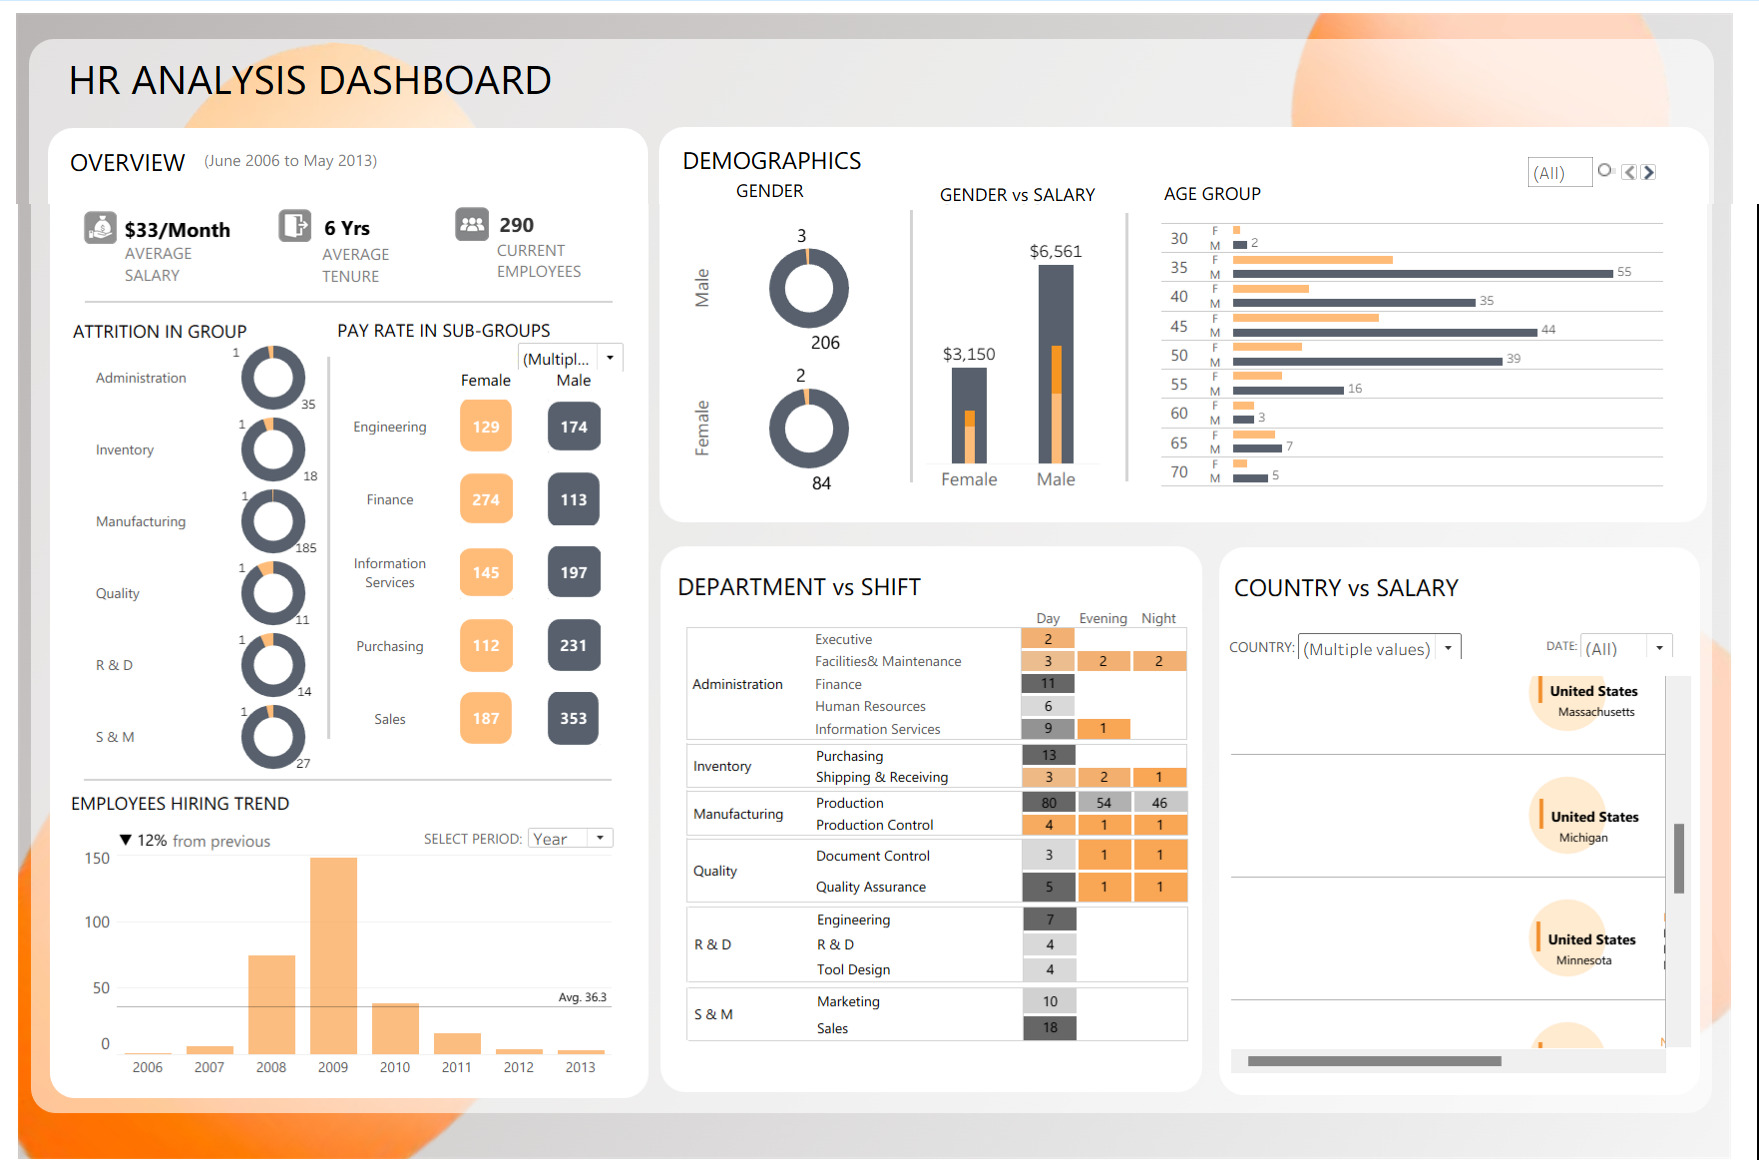

Layout of this report page (visuals, bound fields, positions):
{"tool":"tableau","page":{"name":"HR Analysis","canvas":[1754,1169],"ordinal":0},"visuals":[{"type":"image","param":"C:/Users/vshivani/Desktop/shivani/Tableau/7. HR analysis(ssms)-replica/images/fi","box":[8,8,1738,1153]},{"type":"worksheet","title":"Round BG","mark":"Automatic","box":[25,38,1689,1120]},{"type":"text","box":[60,41,604,71]},{"type":"worksheet","title":"Round box1","mark":"Automatic","box":[44,104,611,1011]},{"type":"worksheet","title":"Round box2","mark":"Automatic","box":[655,126,1068,410]},{"type":"text","box":[642,129,252,58]},{"type":"text","box":[62,134,190,52]},{"type":"text","box":[196,139,235,39]},{"type":"filter","title":"AGE GROUP","param":"[federated.0ox08631faskx71163btk0cyt8z8].[none:ages (bin):ok]","box":[1521,153,135,49]},{"type":"text","box":[712,160,108,58]},{"type":"text","box":[1156,163,117,58]},{"type":"text","box":[932,174,182,38]},{"type":"worksheet","title":"Average salary","mark":"Automatic","box":[111,194,122,62]},{"type":"worksheet","title":"Current Employees","mark":"Automatic","box":[482,196,59,47]},{"type":"worksheet","title":"Average Tenure","mark":"Automatic","box":[308,202,67,42]},{"type":"image","param":"C:/Users/vshivani/Desktop/shivani/Tableau/7. HR analysis(ssms)-replica/images/pe","box":[450,203,35,34]},{"type":"image","param":"C:/Users/vshivani/Desktop/shivani/Tableau/7. HR analysis(ssms)-replica/images/le","box":[273,205,35,33]},{"type":"blank","box":[906,206,3,273]},{"type":"image","param":"C:/Users/vshivani/Desktop/shivani/Tableau/7. HR analysis(ssms)-replica/images/sa","box":[78,207,38,33]},{"type":"blank","box":[1122,209,3,269]},{"type":"worksheet","title":"Gender","mark":"Pie","rows":["Gender","Calculation_1583015271361843207","Calculation_1583015271361843207"],"box":[684,214,218,281]},{"type":"worksheet","title":"AGE GROUP","mark":"Automatic","rows":["ages (bin)","Gender (copy)_495114486962520064"],"cols":["Calculation_849491482378940431"],"box":[1158,219,503,264]},{"type":"worksheet","title":"gender vs salary","mark":"Bar","rows":["Calculation_849491482297741312","Rate"],"cols":["Gender"],"box":[922,228,174,260]},{"type":"text","box":[488,232,98,49]},{"type":"text","box":[115,234,81,52]},{"type":"text","box":[313,236,76,50]},{"type":"blank","box":[79,297,529,2]},{"type":"text","box":[328,309,255,33]},{"type":"text","box":[63,312,284,30]},{"type":"worksheet","title":"attrition in group","mark":"Pie","rows":["GroupName","Calculation_1583015271361843207","Calculation_1583015271361843207"],"box":[84,338,260,432]},{"type":"filter","title":"pay rate in sub-groups","param":"[federated.0ox08631faskx71163btk0cyt8z8].[none:Name (HumanResources.Department):","box":[510,339,112,29]},{"type":"blank","box":[322,353,3,383]},{"type":"worksheet","title":"pay rate in sub-groups","mark":"Square","rows":["Name (HumanResources.Department)"],"cols":["Gender"],"box":[333,366,280,386]},{"type":"worksheet","title":"Round box3","mark":"Automatic","box":[656,543,553,570]},{"type":"worksheet","title":"Round box4","mark":"Automatic","box":[1216,544,491,572]},{"type":"text","box":[1227,554,270,58]},{"type":"text","box":[669,558,345,48]},{"type":"worksheet","title":"dep vs shifts 1","mark":"Square","rows":["GroupName","Name (HumanResources.Department)"],"cols":["ShiftID (HumanResources.EmployeeDepartme)"],"box":[682,604,502,133]},{"type":"blank","box":[682,624,1,414]},{"type":"filter","title":"country vs salary","param":"[federated.0ox08631faskx71163btk0cyt8z8].[none:Calculation_1417226510753955842:n","box":[1220,630,242,26]},{"type":"filter","title":"country vs salary","param":"[federated.0ox08631faskx71163btk0cyt8z8].[yr:HireDate:ok]","box":[1503,630,171,24]},{"type":"worksheet","title":"country vs salary","mark":"Pie","rows":["Name","Calculation_1583015271361843207","Calculation_1583015271361843207"],"box":[1228,673,461,398]},{"type":"blank","box":[672,737,52,3]},{"type":"worksheet","title":"dep vs shifts 2","mark":"Square","rows":["GroupName","Name (HumanResources.Department)"],"cols":["ShiftID (HumanResources.EmployeeDepartme)"],"box":[683,741,501,44]},{"type":"blank","box":[78,776,529,2]},{"type":"text","box":[61,783,250,33]},{"type":"blank","box":[675,785,70,2]},{"type":"worksheet","title":"dep vs shifts 3","mark":"Square","rows":["GroupName","Name (HumanResources.Department)"],"cols":["ShiftID (HumanResources.EmployeeDepartme)"],"box":[683,788,502,45]},{"type":"parameter","param":"[Parameters].[Parameter 1]","box":[520,822,92,27]},{"type":"text","box":[163,823,126,30]},{"type":"text","box":[415,825,112,20]},{"type":"worksheet","title":"employee difference","mark":"Bar","cols":["Dynamic hire date (copy)_849491482355109901"],"box":[107,826,62,25]},{"type":"blank","box":[670,833,75,2]},{"type":"worksheet","title":"dep vs shifts 4","mark":"Square","rows":["GroupName","Name (HumanResources.Department)"],"cols":["ShiftID (HumanResources.EmployeeDepartme)"],"box":[683,836,502,64]},{"type":"worksheet","title":"Employees hiring trend","mark":"Bar","rows":["BusinessEntityID (HumanResources.Employee)"],"cols":["Calculation_849491482344280073"],"box":[78,844,529,231]},{"type":"worksheet","title":"dep vs shifts 5","mark":"Square","rows":["GroupName","Name (HumanResources.Department)"],"cols":["ShiftID (HumanResources.EmployeeDepartme)"],"box":[684,854,501,126]},{"type":"blank","box":[658,900,529,4]},{"type":"worksheet","title":"dep vs shifts 6","mark":"Square","rows":["GroupName","Name (HumanResources.Department)"],"cols":["ShiftID (HumanResources.EmployeeDepartme)"],"box":[684,932,501,107]},{"type":"blank","box":[663,980,529,5]}]}

Visuals, with their boxes in screenshot pixels (x1, y1, x2, y2), scaled from the page's 1754x1169 canvas onto the 1759x1160 screenshot:
image: [8,8,1751,1152]
"Round BG" worksheet: [25,38,1719,1149]
text: [60,41,666,111]
"Round box1" worksheet: [44,103,657,1106]
"Round box2" worksheet: [657,125,1728,532]
text: [644,128,897,186]
text: [62,133,253,185]
text: [197,138,432,177]
"AGE GROUP" filter: [1525,152,1661,200]
text: [714,159,822,216]
text: [1159,162,1277,219]
text: [935,173,1117,210]
"Average salary" worksheet: [111,193,234,254]
"Current Employees" worksheet: [483,194,543,241]
"Average Tenure" worksheet: [309,200,376,242]
image: [451,201,486,235]
image: [274,203,309,236]
blank: [909,204,912,475]
image: [78,205,116,238]
blank: [1125,207,1128,474]
"Gender" worksheet (Pie marks): [686,212,905,491]
"AGE GROUP" worksheet: [1161,217,1666,479]
"gender vs salary" worksheet (Bar marks): [925,226,1099,484]
text: [489,230,588,279]
text: [115,232,197,284]
text: [314,234,390,284]
blank: [79,295,610,297]
text: [329,307,585,339]
text: [63,310,348,339]
"attrition in group" worksheet (Pie marks): [84,335,345,764]
"pay rate in sub-groups" filter: [511,336,624,365]
blank: [323,350,326,730]
"pay rate in sub-groups" worksheet (Square marks): [334,363,615,746]
"Round box3" worksheet: [658,539,1212,1104]
"Round box4" worksheet: [1219,540,1712,1107]
text: [1230,550,1501,607]
text: [671,554,1017,601]
"dep vs shifts 1" worksheet (Square marks): [684,599,1187,731]
blank: [684,619,685,1030]
"country vs salary" filter: [1223,625,1466,651]
"country vs salary" filter: [1507,625,1679,649]
"country vs salary" worksheet (Pie marks): [1232,668,1694,1063]
blank: [674,731,726,734]
"dep vs shifts 2" worksheet (Square marks): [685,735,1187,779]
blank: [78,770,609,772]
text: [61,777,312,810]
blank: [677,779,747,781]
"dep vs shifts 3" worksheet (Square marks): [685,782,1188,827]
parameter: [521,816,614,842]
text: [163,817,290,846]
text: [416,819,529,838]
"employee difference" worksheet (Bar marks): [107,820,169,844]
blank: [672,827,747,829]
"dep vs shifts 4" worksheet (Square marks): [685,830,1188,893]
"Employees hiring trend" worksheet (Bar marks): [78,838,609,1067]
"dep vs shifts 5" worksheet (Square marks): [686,847,1188,972]
blank: [660,893,1190,897]
"dep vs shifts 6" worksheet (Square marks): [686,925,1188,1031]
blank: [665,972,1195,977]
